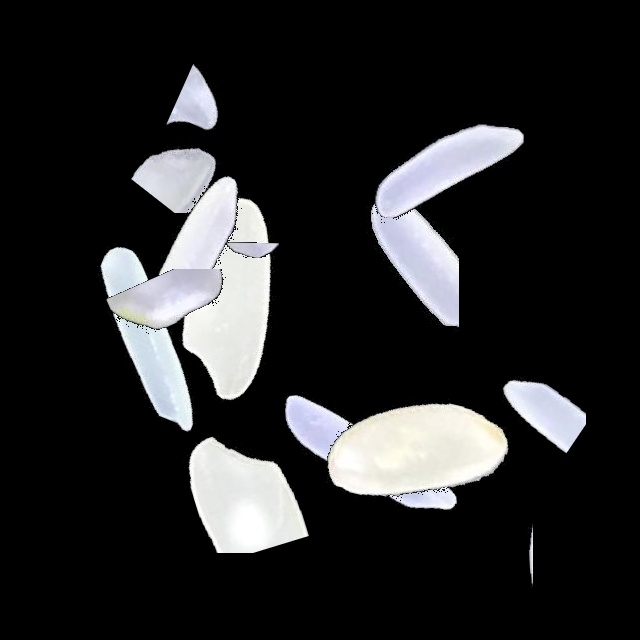Broken: (40, 146, 290, 303), (113, 403, 363, 553), (310, 141, 459, 391), (61, 269, 311, 407), (70, 91, 320, 213), (106, 58, 356, 170), (474, 280, 586, 530), (437, 368, 533, 618), (216, 161, 302, 411), (285, 33, 535, 112)
Full: (25, 213, 275, 463), (107, 169, 357, 419), (325, 45, 575, 295), (246, 326, 496, 576), (294, 328, 544, 578)
